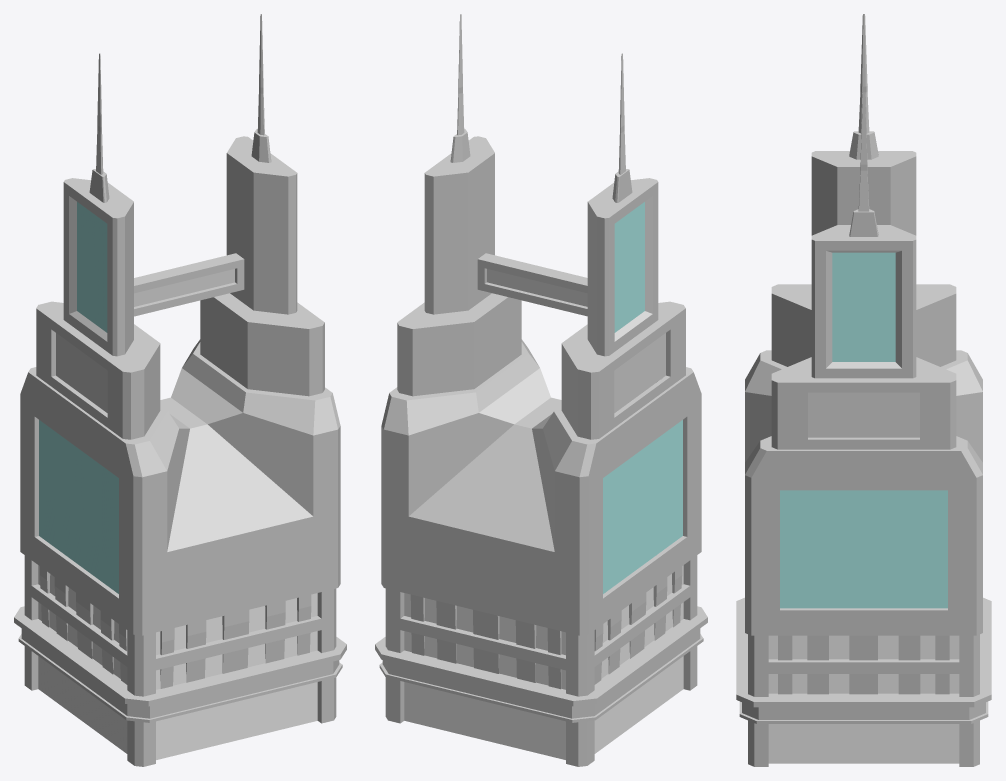
The model's file is classMain0.gltf.
3 views of the same model, side by side, from view 1: azimuth 30°, elevation 25°; view 2: azimuth 150°, elevation 25°; view 3: azimuth 270°, elevation 25° (orthographic).
Parts seen in each view (by area): view 1: Skyscr_09_A.004; view 2: Skyscr_09_A.004; view 3: Skyscr_09_A.004.
Boxes of the visible parts, x1=… form: Skyscr_09_A.004: x1=14, y1=14, x2=346, y2=766; Skyscr_09_A.004: x1=375, y1=14, x2=707, y2=766; Skyscr_09_A.004: x1=736, y1=14, x2=991, y2=766.
Size of the model in its own units: 0.993 by 2.85 by 0.993.
